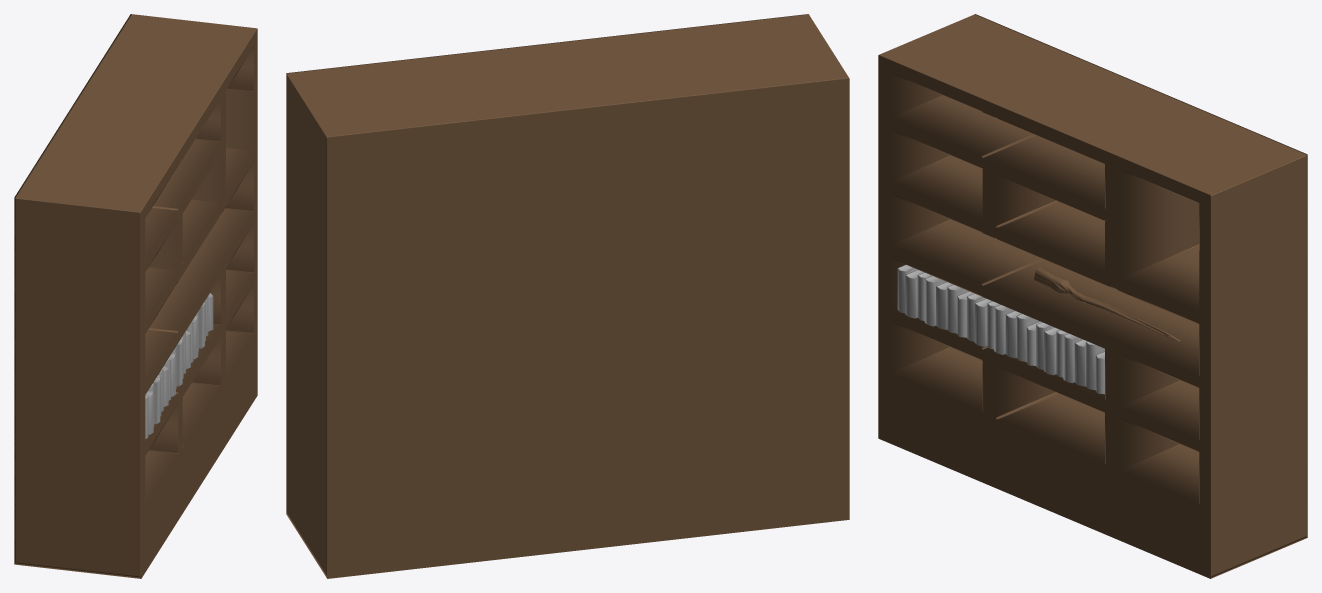
The model's file is Librero.fbx.
3 views of the same model, side by side, from view 1: azimuth 30°, elevation 25°; view 2: azimuth 150°, elevation 25°; view 3: azimuth 270°, elevation 25° (orthographic). The views are drawn at different scales.
Parts seen in each view (by area): view 1: Librero_01, Conjunto_Libros_02, Conjunto_Libros_03, Conjunto_Libros_05, Conjunto_Libros_01, Conjunto_Libros_04, Conjunto_Libros_06; view 2: Librero_01; view 3: Librero_01, Conjunto_Libros_02, Conjunto_Libros_03, Conjunto_Libros_05, Conjunto_Libros_01, Conjunto_Libros_06, Baston_Magico_Rama1, Conjunto_Libros_04.
Boxes of the visible parts, left/top/right/bottom form: Librero_01: left=14, top=14, right=257, bottom=578; Conjunto_Libros_02: left=153, top=366, right=168, bottom=424; Conjunto_Libros_03: left=176, top=330, right=190, bottom=386; Conjunto_Libros_05: left=199, top=293, right=213, bottom=348; Conjunto_Libros_01: left=145, top=383, right=154, bottom=438; Conjunto_Libros_04: left=164, top=346, right=176, bottom=400; Conjunto_Libros_06: left=186, top=311, right=198, bottom=362; Librero_01: left=286, top=14, right=849, bottom=578; Librero_01: left=878, top=14, right=1307, bottom=578; Conjunto_Libros_02: left=924, top=276, right=973, bottom=337; Conjunto_Libros_03: left=994, top=304, right=1041, bottom=365; Conjunto_Libros_05: left=1063, top=333, right=1104, bottom=394; Conjunto_Libros_01: left=897, top=264, right=931, bottom=320; Conjunto_Libros_06: left=1036, top=322, right=1068, bottom=377; Baston_Magico_Rama1: left=1034, top=267, right=1181, bottom=341; Conjunto_Libros_04: left=967, top=293, right=999, bottom=349.
Bounding box in the file's own units: 189 × 186 × 189.
